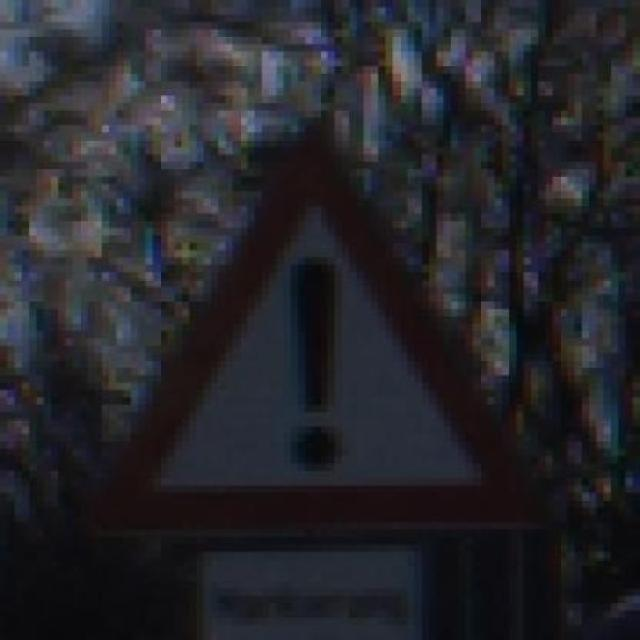Attention Please-: (37, 110, 546, 538)
